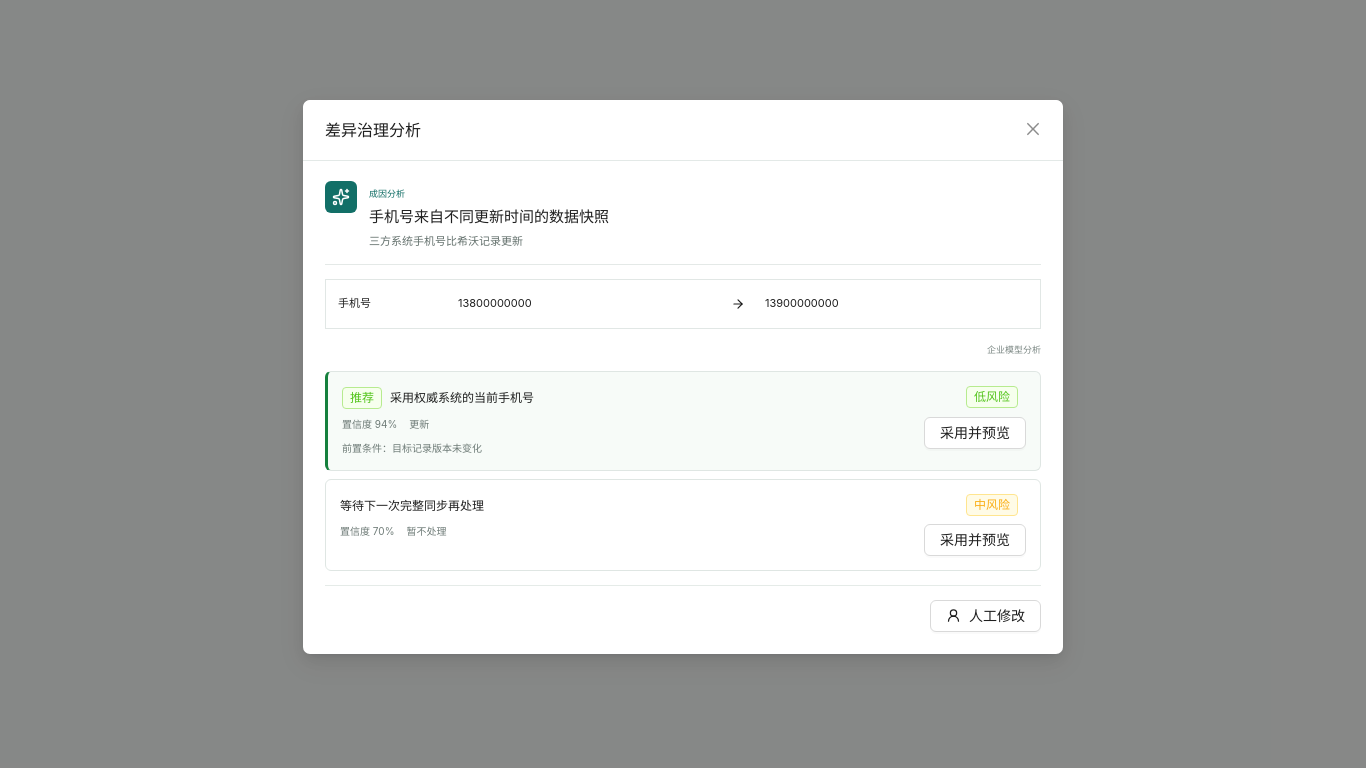
Test: AnalysisModal › does not expose technical proposal errors
Click the button "采用并预览" in the row of "目标记录版本未变化" at (975, 433), box [924,417,1026,449]
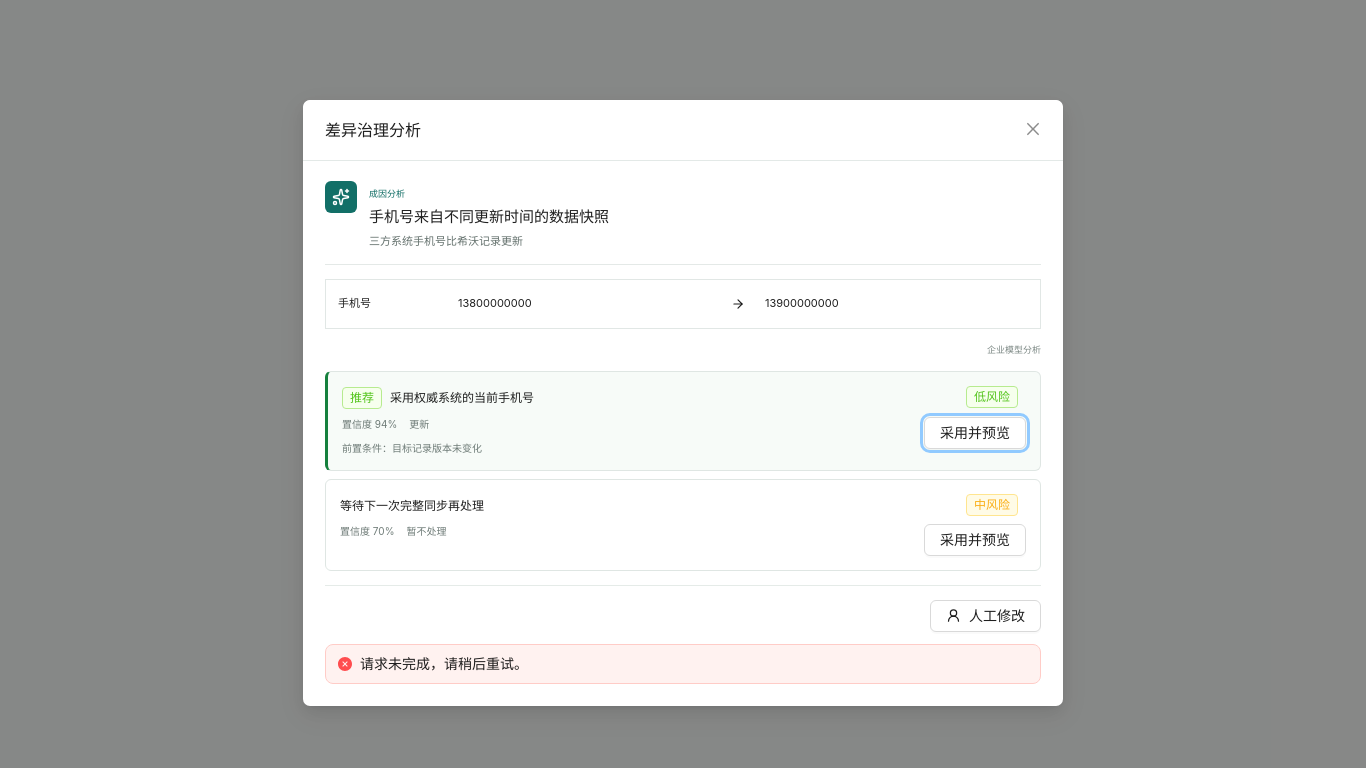
Expected: the text "请求未完成，请稍后重试。" is shown, [360,655,528,672]
